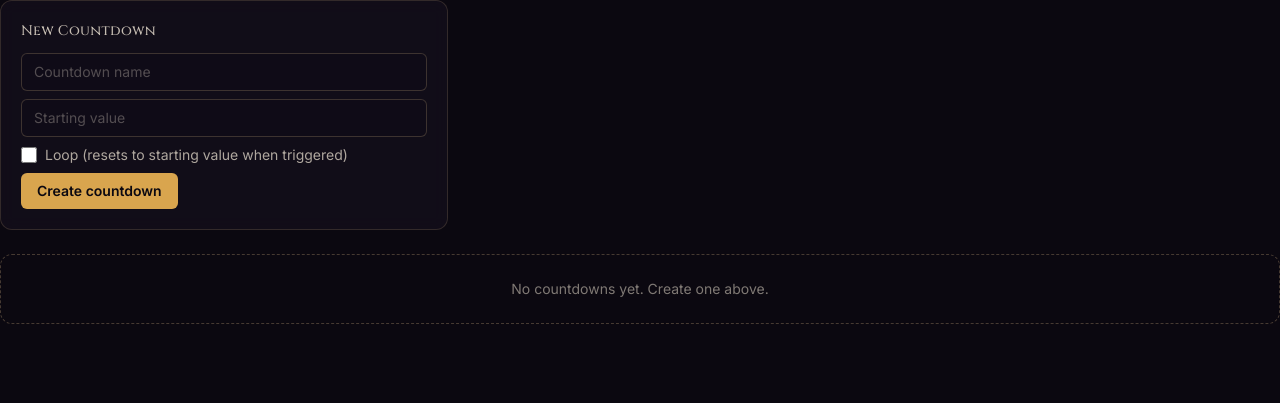
Scenario: CountdownsPanel › shows an error message when creation fails
The width and height of the screenshot is (1280, 403).
Expected: the list item "No countdowns yet. Create one above." is shown, [0,254,1279,324]
Type "Bad" into the field with placeholder "Countdown name". click: x=224, y=72
box: [21,53,427,91]
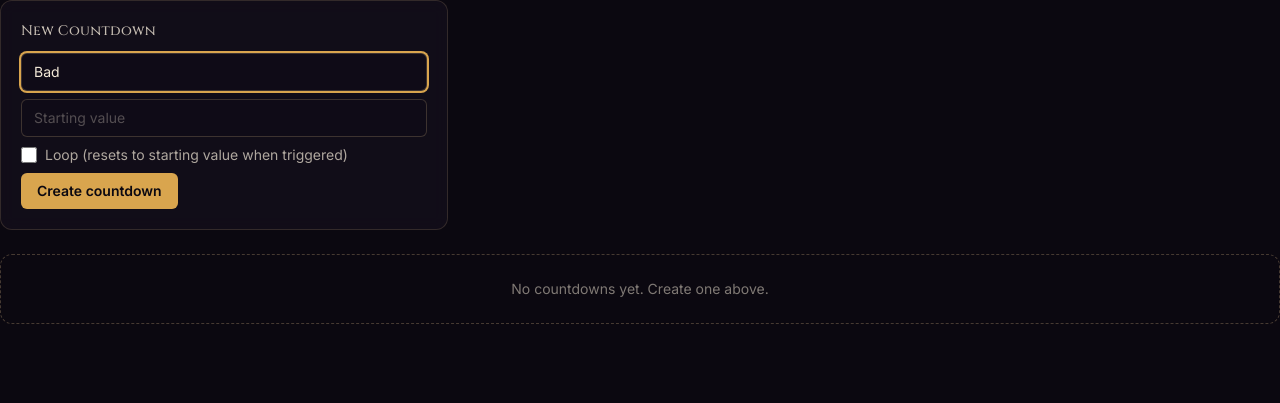
Type "1" into the number field with placeholder "Starting value". click: x=224, y=118
box: [21,99,427,137]
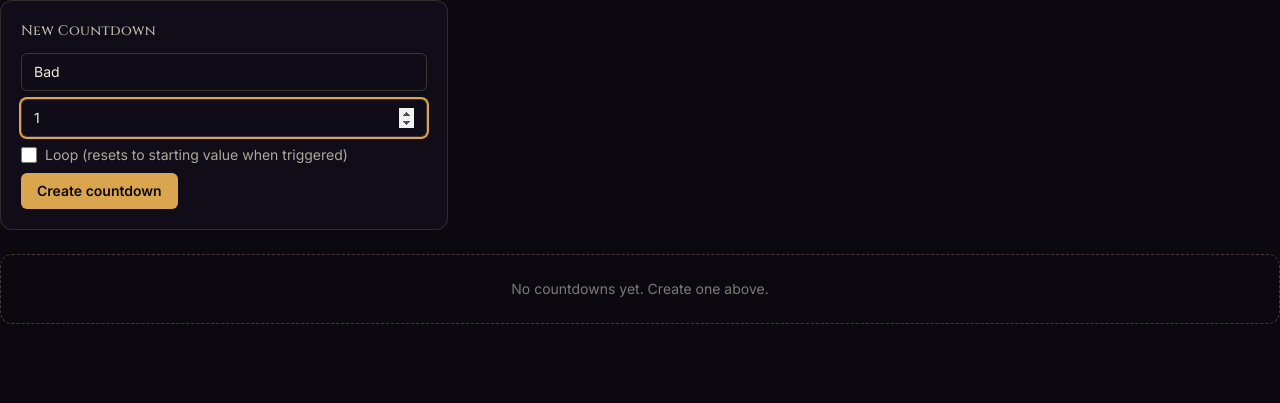
Click the button "Create countdown". click: x=99, y=191
box: [21,173,178,209]
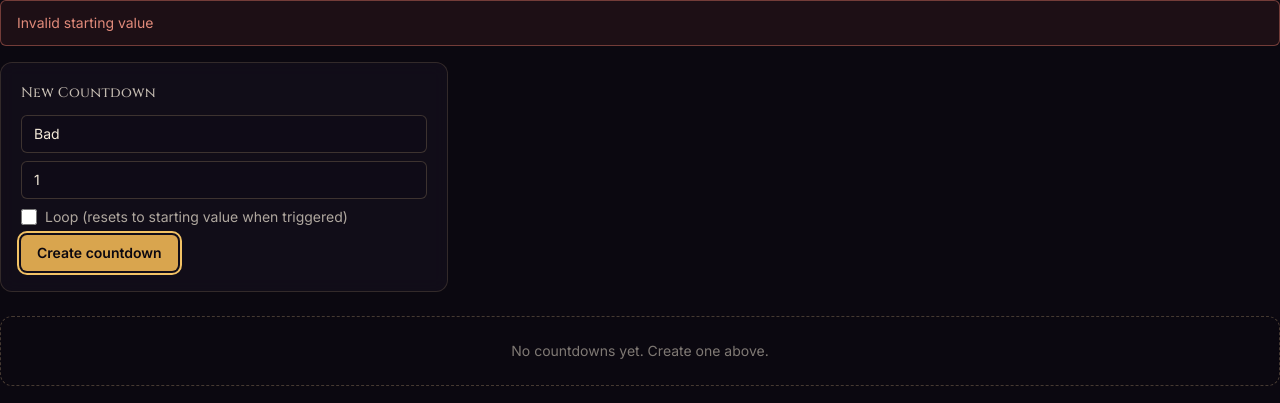
Now the text "Invalid starting value" is shown, box [0,0,1279,46]
